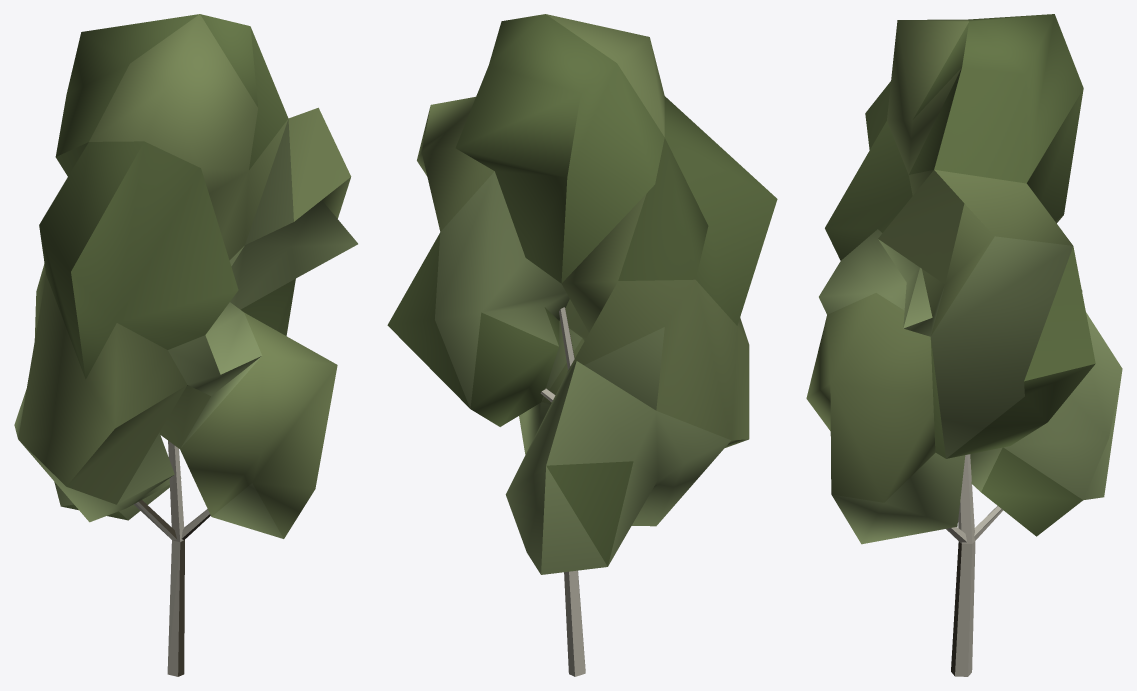
The picture shows the model from 3 angles, left to right: view 1: azimuth 30°, elevation 25°; view 2: azimuth 150°, elevation 25°; view 3: azimuth 270°, elevation 25°; orthographic projection. The views are drawn at different scales.
Visible parts, largest first — view 1: Берёза; view 2: Берёза; view 3: Берёза.
Part boxes in pixels (<box>): Берёза: <box>14,14,357,676</box>; Берёза: <box>387,14,777,676</box>; Берёза: <box>806,14,1122,676</box>.
Bounding box in the file's own units: 11.16 × 21.49 × 9.24.
